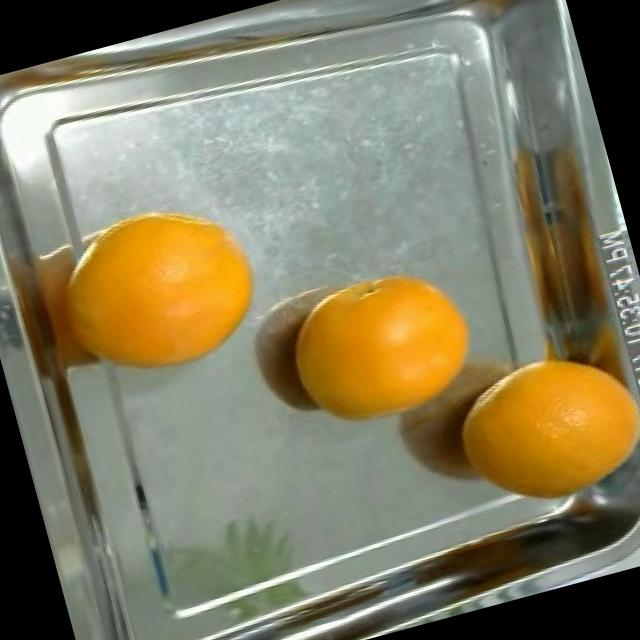Fruit: (254, 246, 506, 459), (413, 318, 640, 540), (426, 0, 565, 48)
